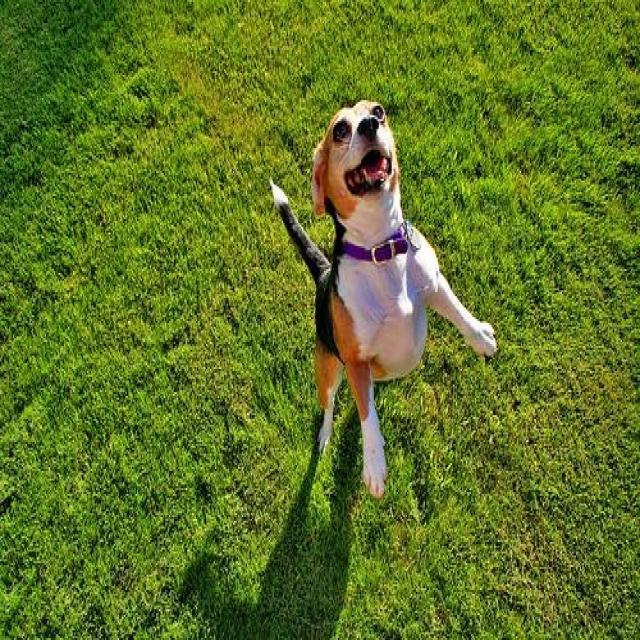beagle: (270, 96, 498, 500)
